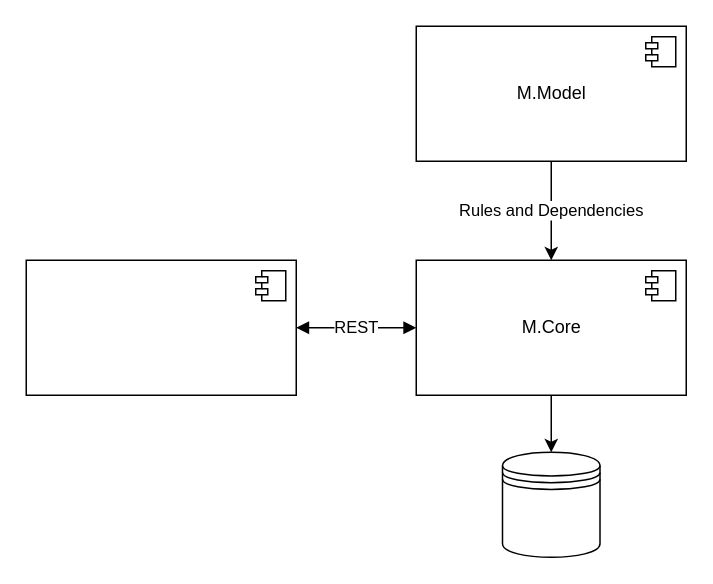
This 713x584 diagram has some shape labels left out. Each missing label, with the centre of its shape:
M.Customer: (x=160, y=327)
Ruleset Database: (x=550, y=504)
